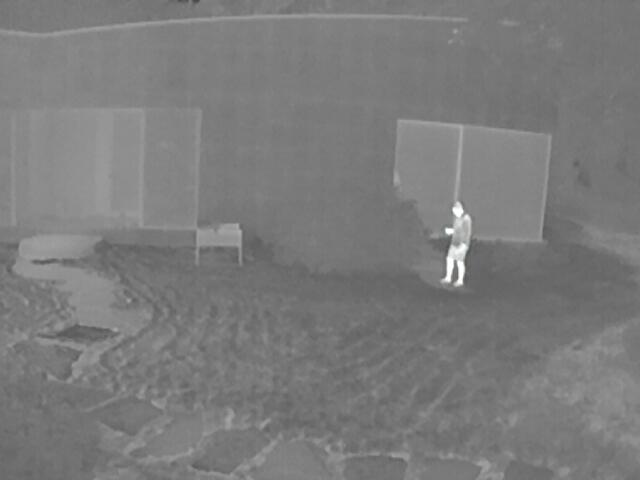person: (440, 201, 471, 289)
